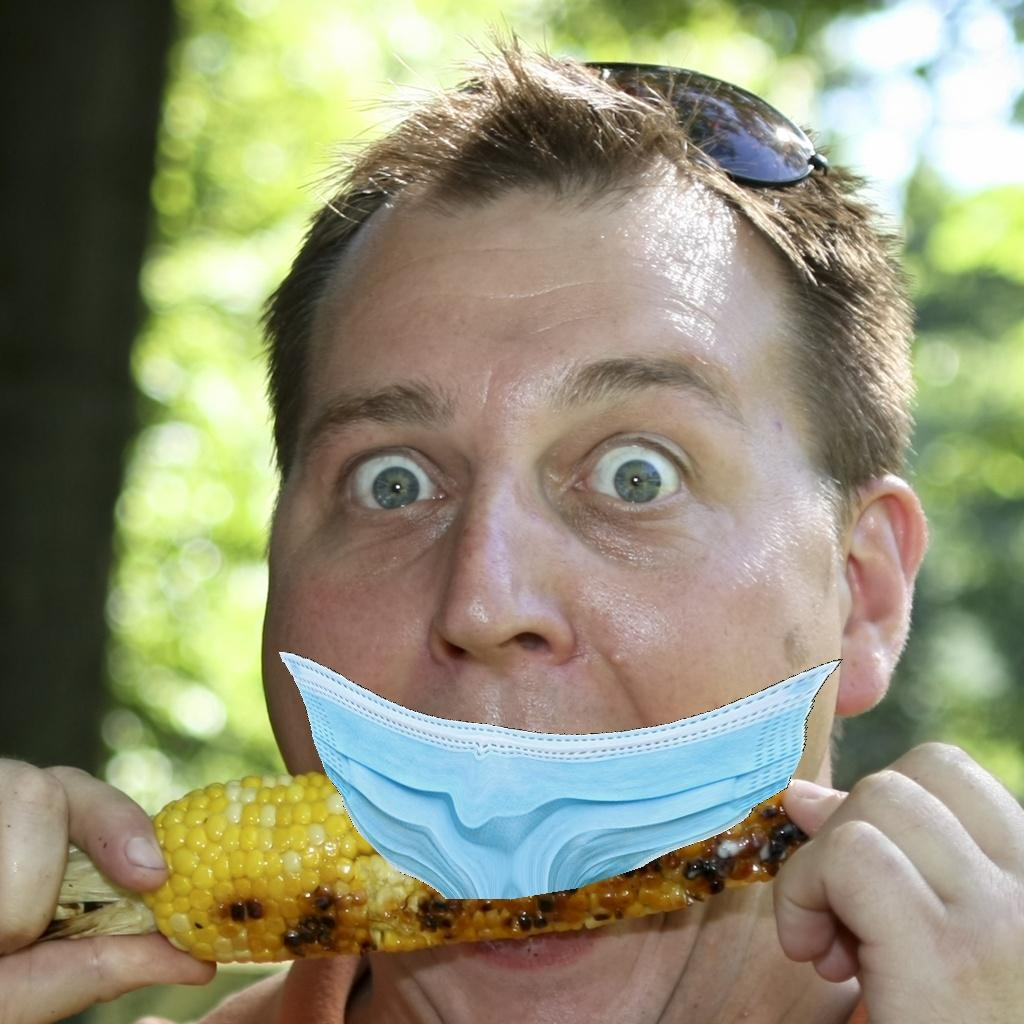Máscara Incorreta: (273, 243, 872, 999)
